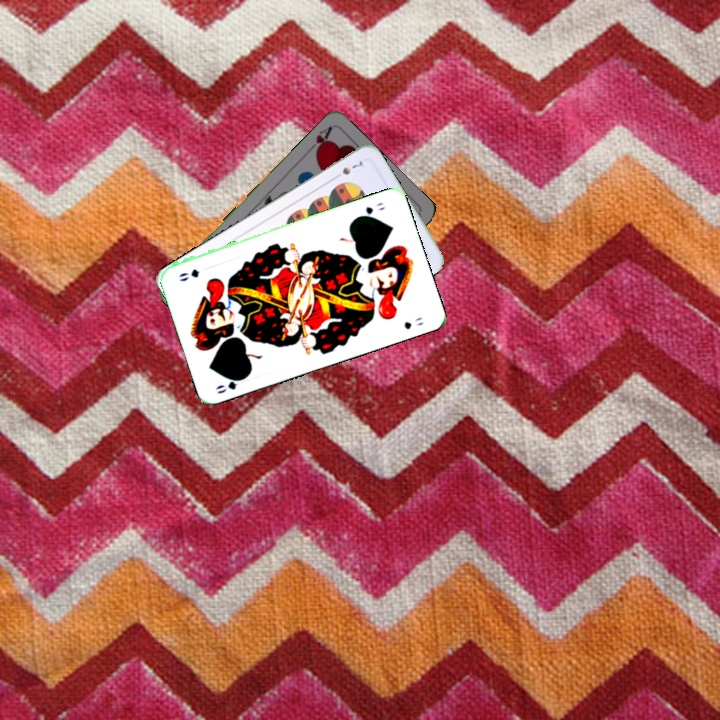GO: (211, 372, 250, 396), (353, 198, 387, 221)
HA: (302, 123, 334, 158)
S7: (330, 157, 366, 182)
